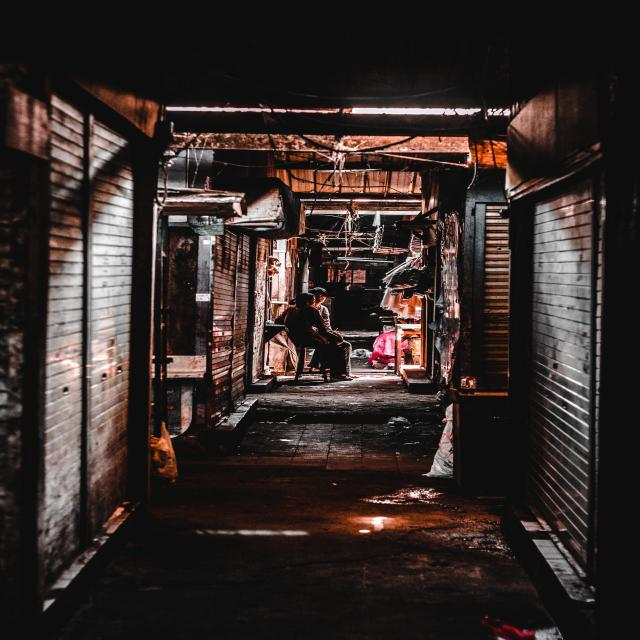adult: (275, 293, 352, 380), (308, 287, 360, 380)
